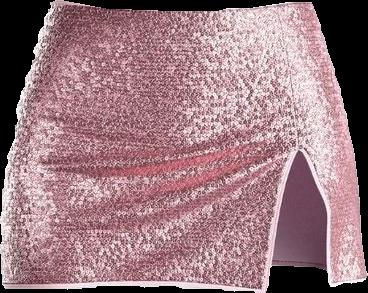Hemline: (4, 149, 367, 292), (264, 149, 301, 292)
Waistline: (50, 0, 313, 12)
